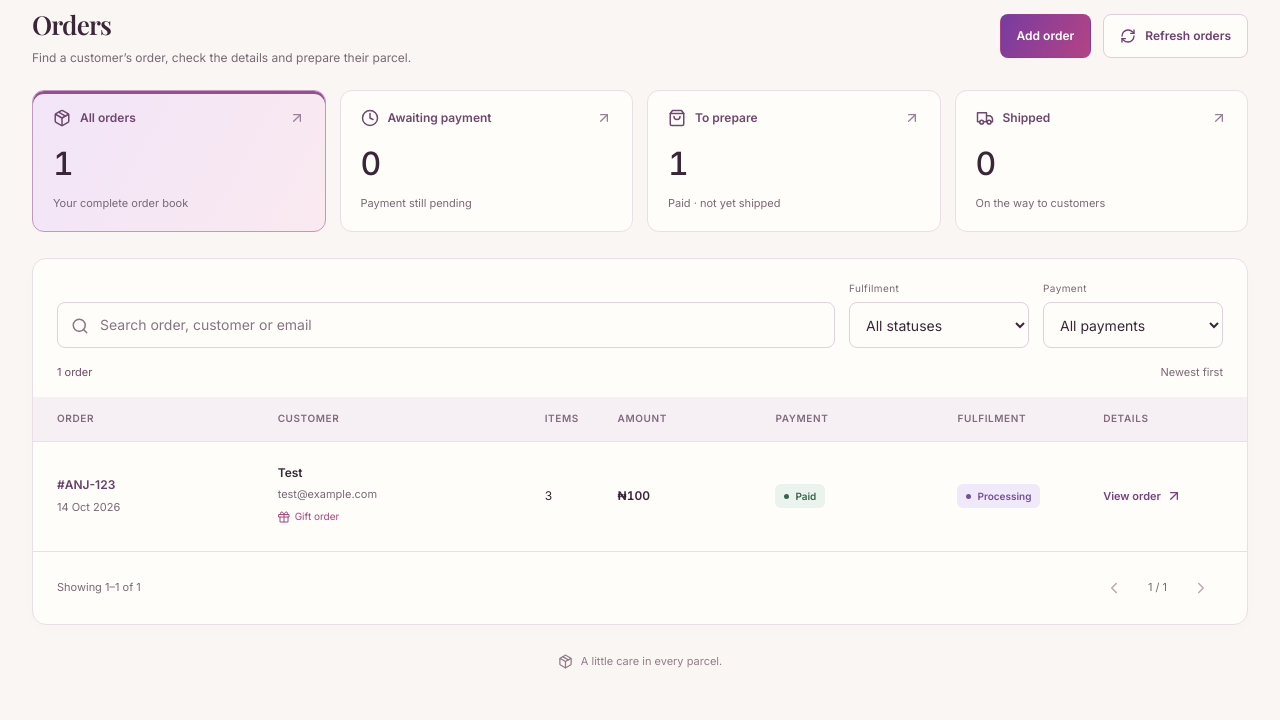
Scenario: incomplete legacy item records still open and do not substitute current product prices
(page scrolled)
Click the button with aria-label "View order ANJ-123" at (1142, 496), box x1=1103 y1=474 x2=1182 y2=518
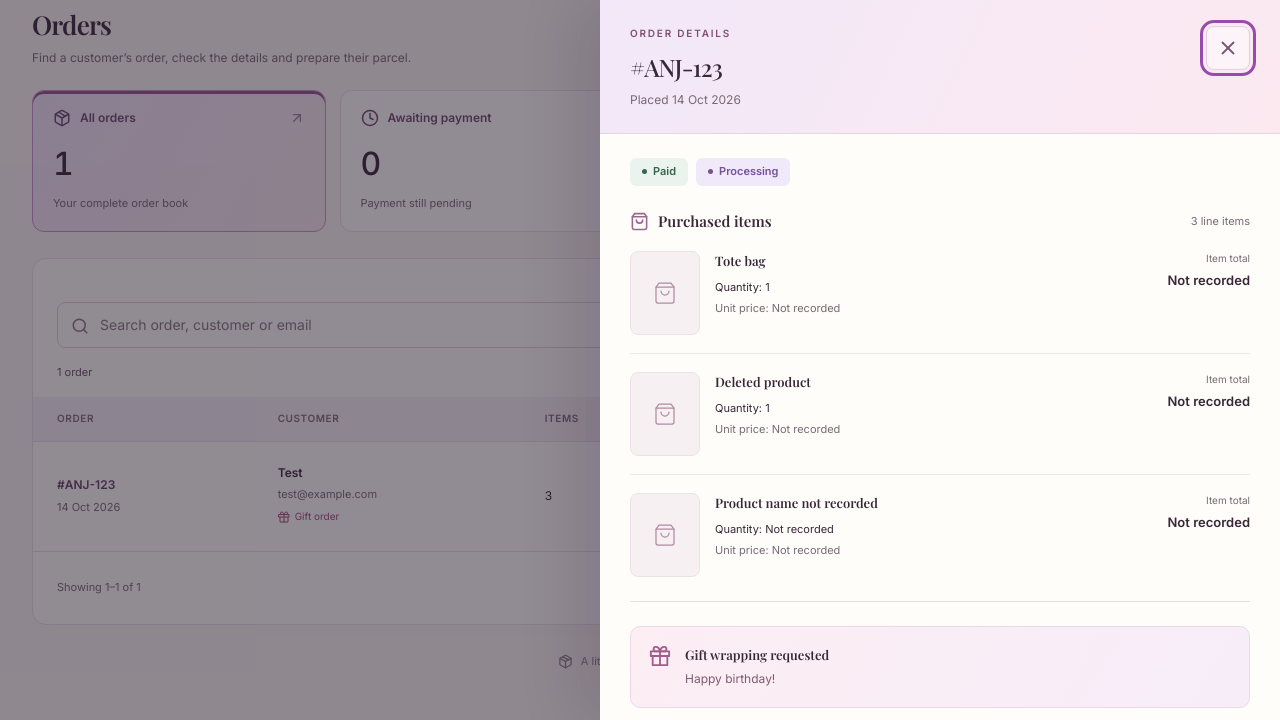
Expected: the heading "Tote bag" is shown, x1=715 y1=252 x2=766 y2=269
Expected: the heading "Deleted product" is shown, x1=715 y1=373 x2=811 y2=390
Expected: the heading "Product name not recorded" is shown, x1=715 y1=494 x2=878 y2=511
